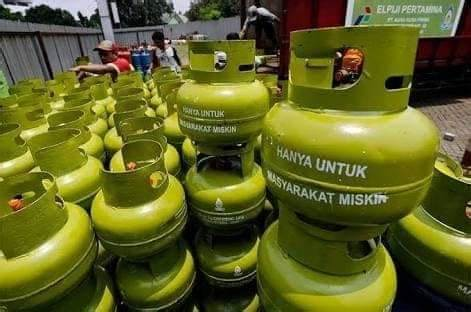gas_ijo: (262, 26, 440, 239), (257, 206, 396, 312), (1, 173, 99, 312), (387, 148, 471, 302), (92, 140, 187, 259), (179, 40, 272, 146), (186, 141, 269, 228), (26, 129, 101, 206), (113, 254, 194, 312), (108, 119, 181, 178), (195, 229, 260, 295), (38, 113, 108, 163), (1, 121, 35, 172), (108, 99, 153, 134), (55, 90, 103, 114), (2, 90, 46, 115), (146, 67, 181, 90), (112, 81, 146, 102)
